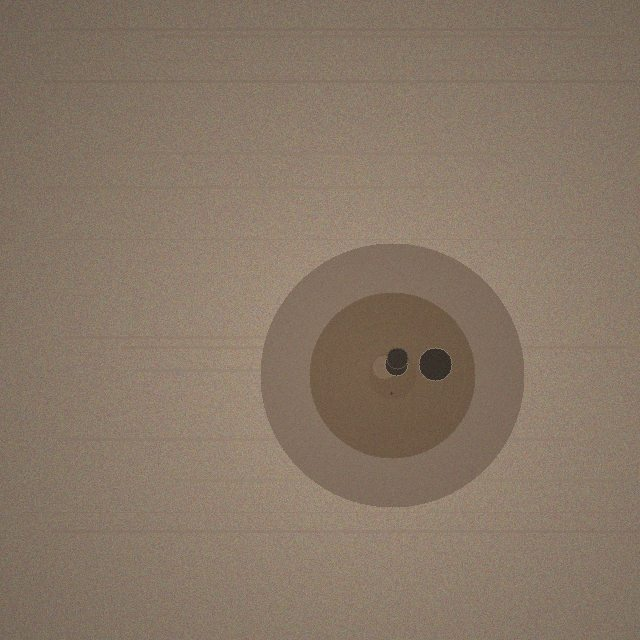shrinkage: (260, 243, 524, 507)
